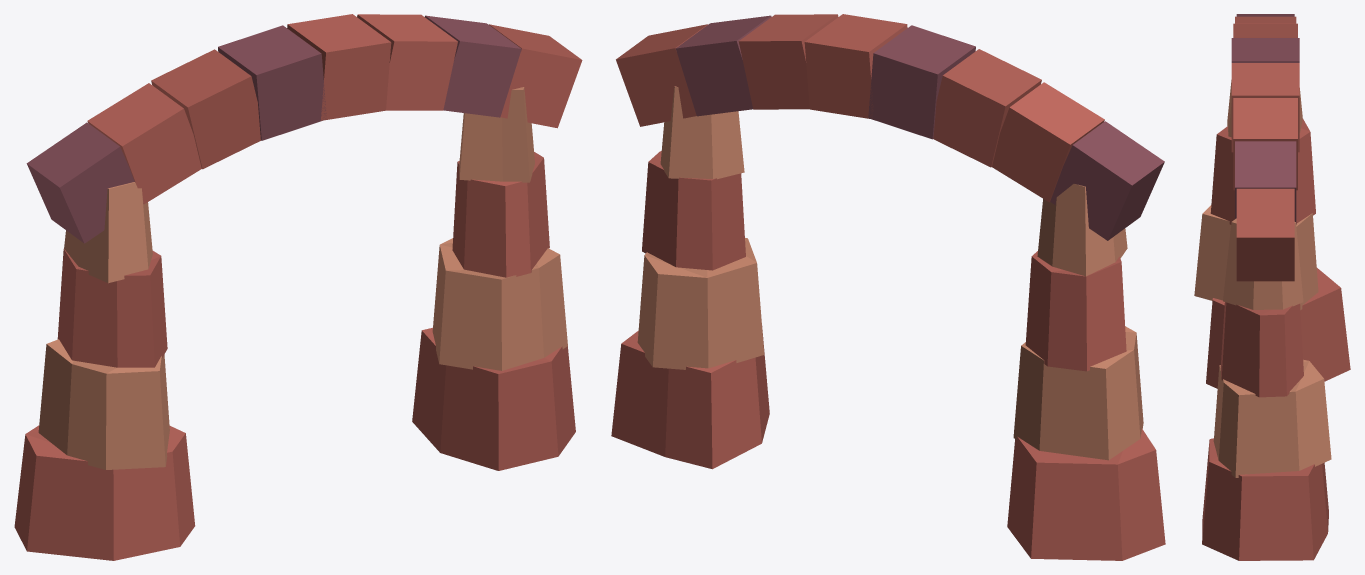
The model's file is Rock_Arch.fbx.
3 renders of one model, left to right at view 1: azimuth 30°, elevation 25°; view 2: azimuth 150°, elevation 25°; view 3: azimuth 270°, elevation 25°, orthographic. The views are drawn at different scales.
Visible parts, largest first — view 1: Rock_Arch; view 2: Rock_Arch; view 3: Rock_Arch.
Boxes of the visible parts, <box> form: Rock_Arch: <box>14,14,582,560</box>; Rock_Arch: <box>611,14,1165,560</box>; Rock_Arch: <box>1194,14,1350,560</box>.
Size of the model in its own units: 25.16 by 19.8 by 7.2.
